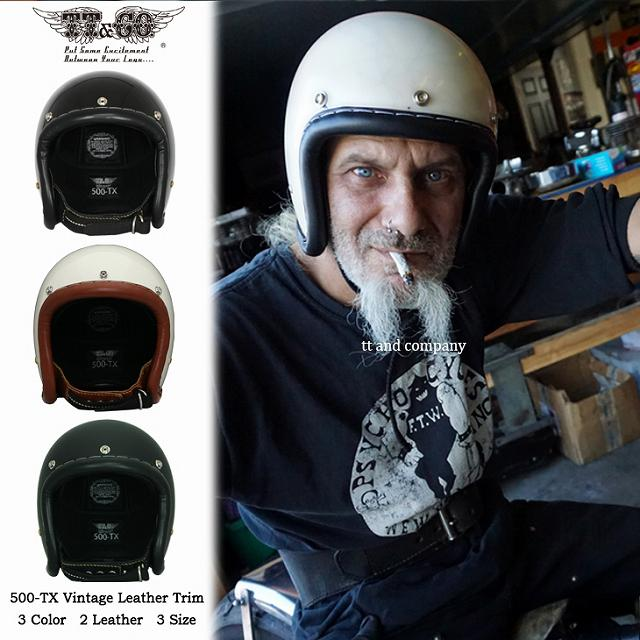helmet: (283, 12, 498, 255), (32, 246, 174, 412), (35, 70, 175, 235), (36, 421, 174, 583)
